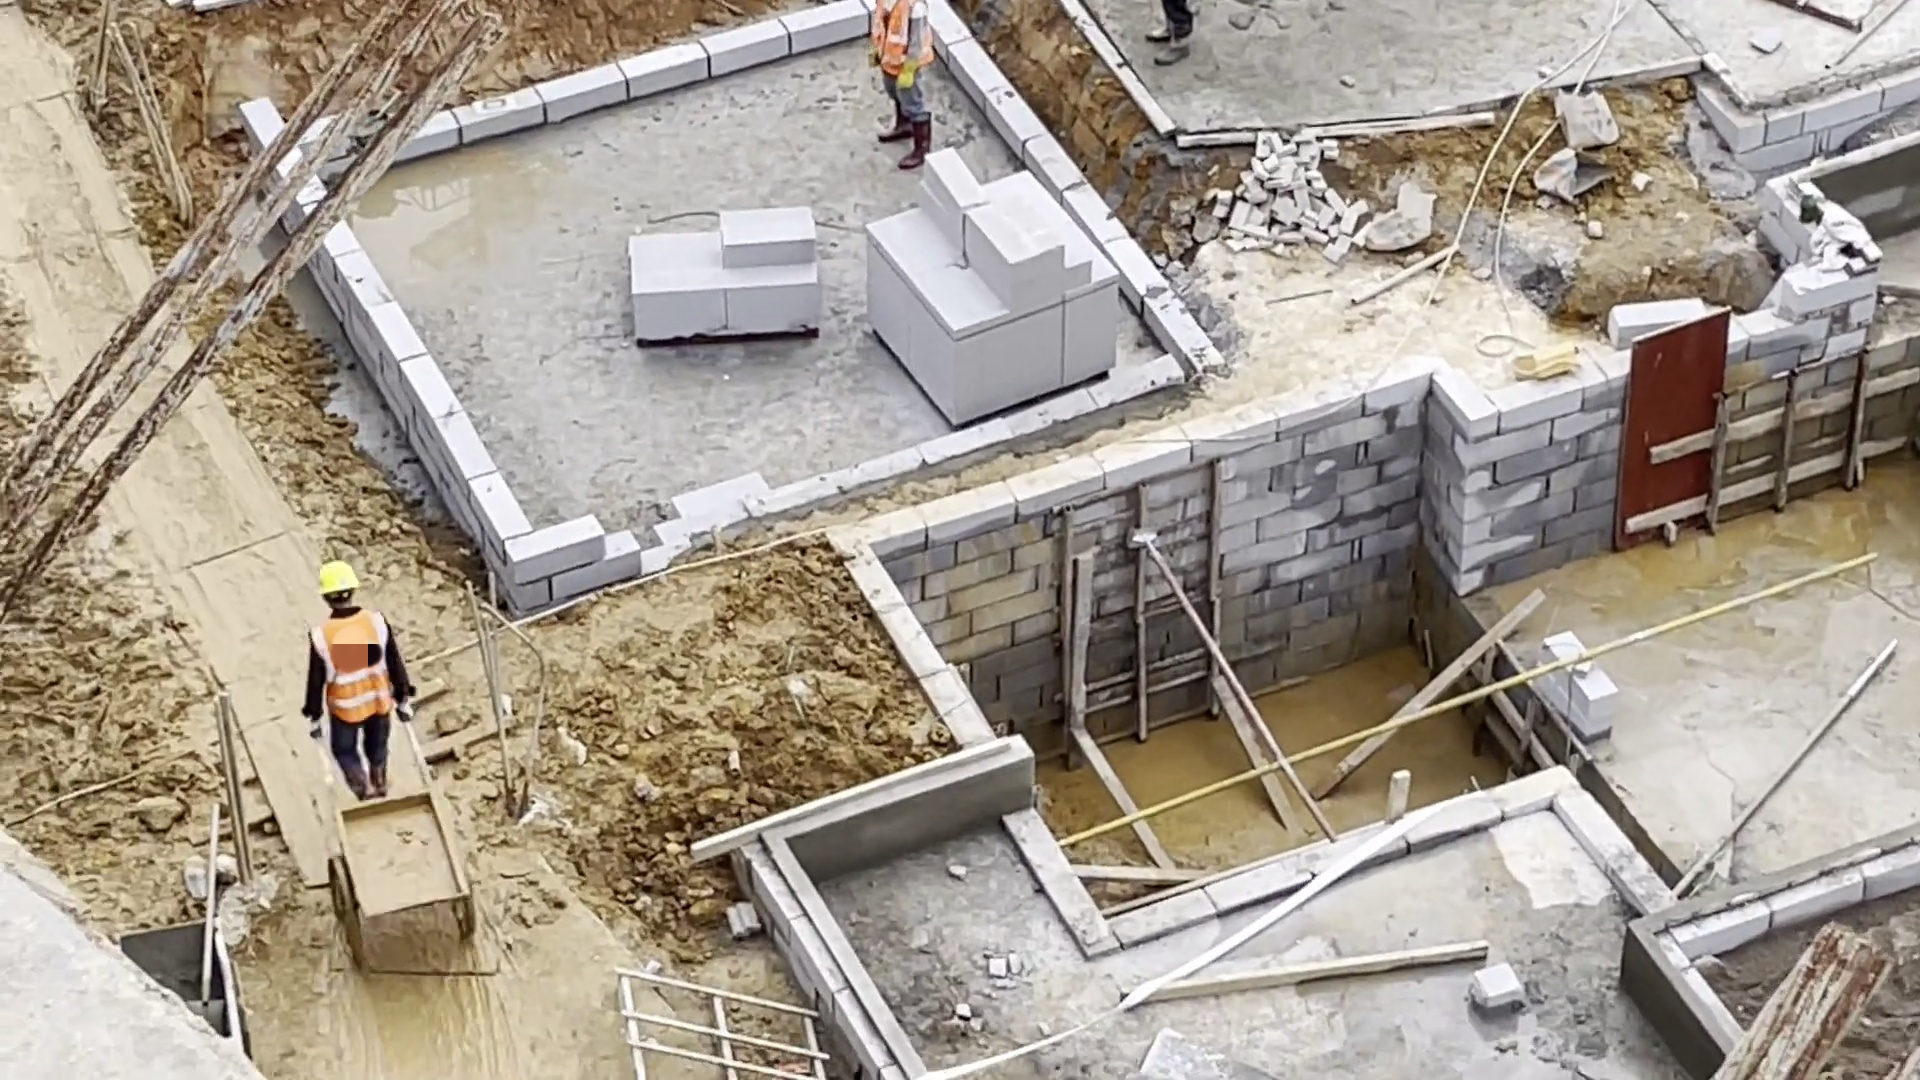brick: (858, 153, 1122, 430), (614, 208, 830, 356)
handcart: (293, 778, 497, 954)
helmet: (314, 558, 360, 595)
person: (299, 561, 423, 805), (852, 1, 952, 175)
vest: (308, 611, 397, 723), (868, 1, 938, 78)
